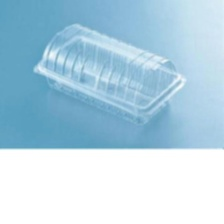plastic_box: (25, 16, 193, 133)
